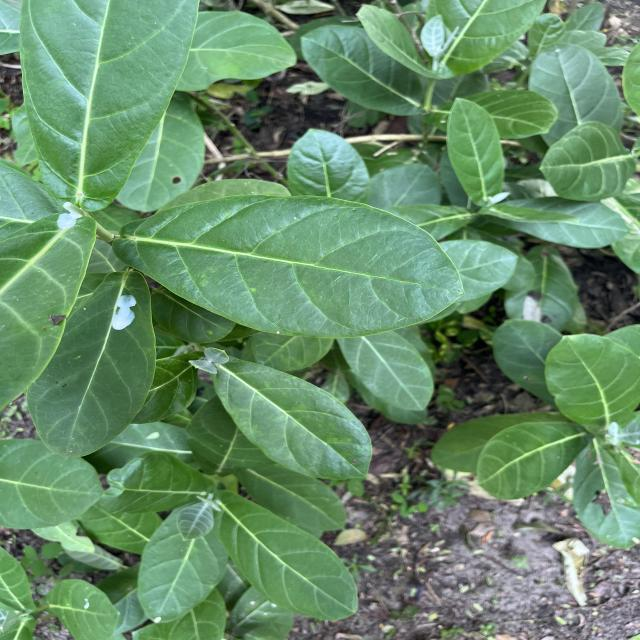Calotropis gigantea: (109, 194, 468, 341), (18, 0, 200, 207), (26, 269, 156, 459), (210, 354, 376, 482), (212, 496, 362, 624), (136, 503, 230, 625), (543, 331, 640, 436), (475, 420, 594, 502), (528, 41, 625, 138), (537, 119, 640, 203), (339, 332, 436, 413), (444, 95, 506, 203)
